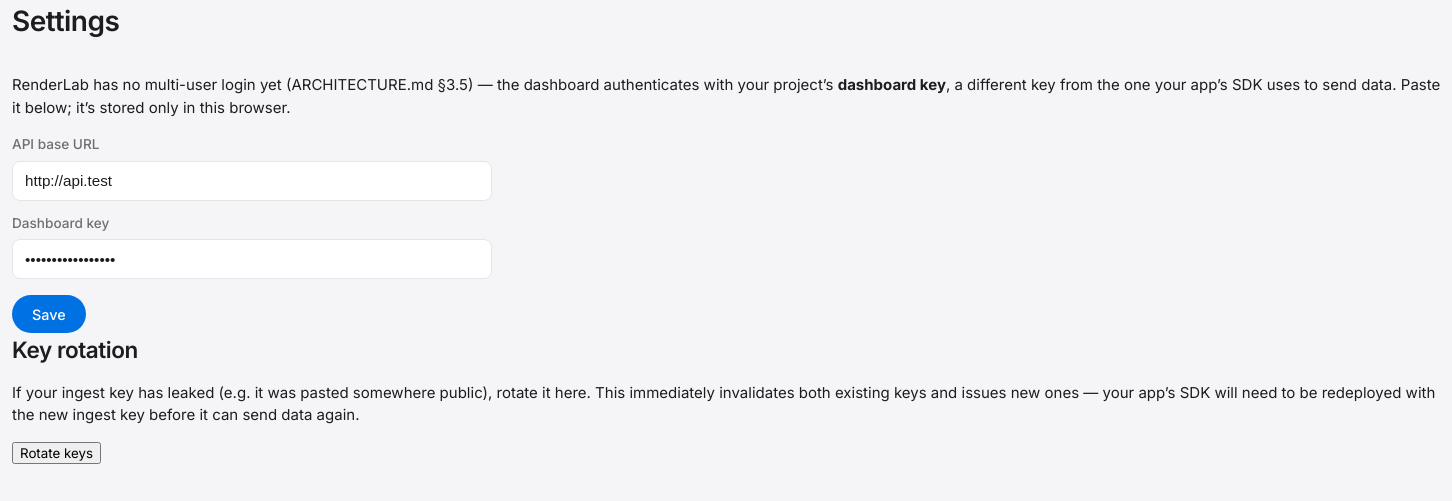
Test: SettingsPage › rotates keys, updates the stored dashboard key, and shows the new ingest key once
This screenshot has width=1452, height=501.
Click the button "Rotate keys" at [57, 453], box x1=12 y1=442 x2=101 y2=464
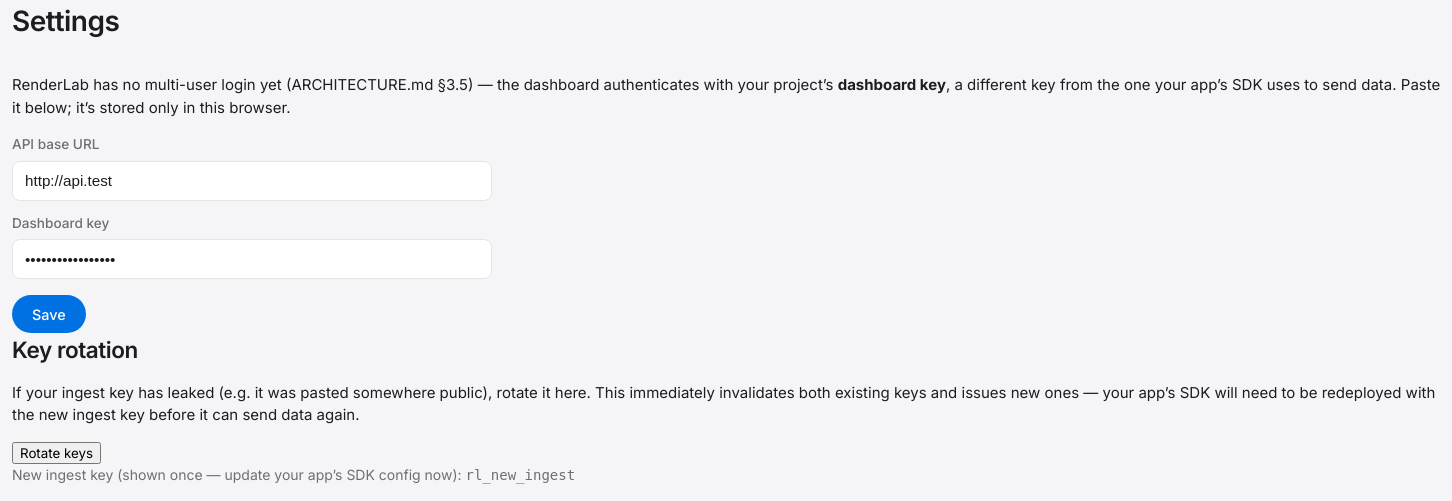
Now the text "rl_new_ingest" is shown, box x1=466 y1=467 x2=575 y2=483
